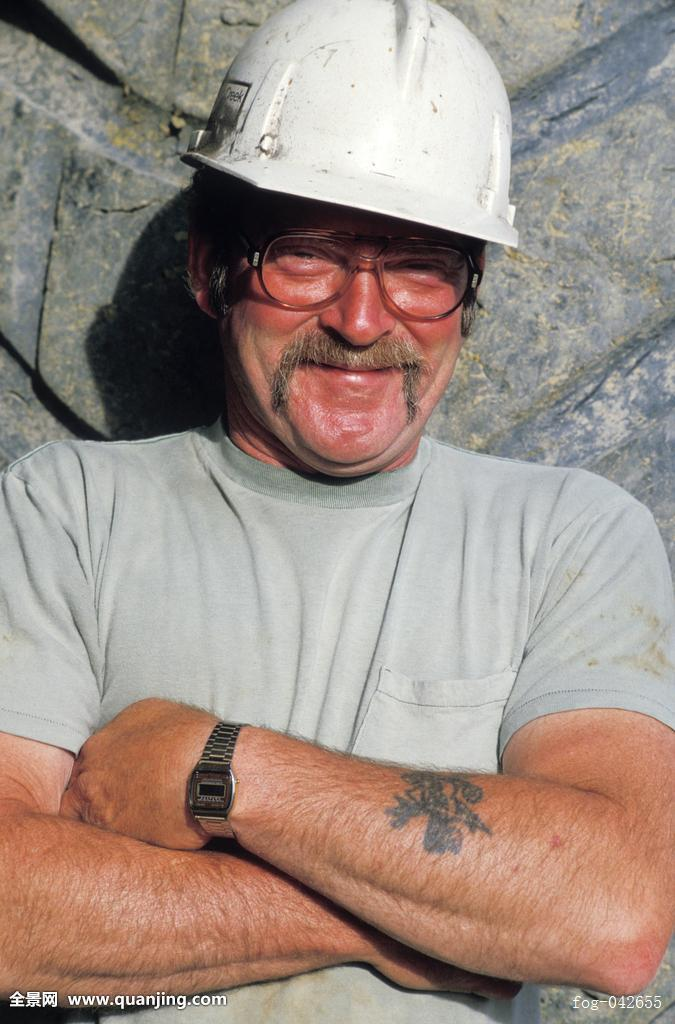helmet: (181, 1, 530, 253)
